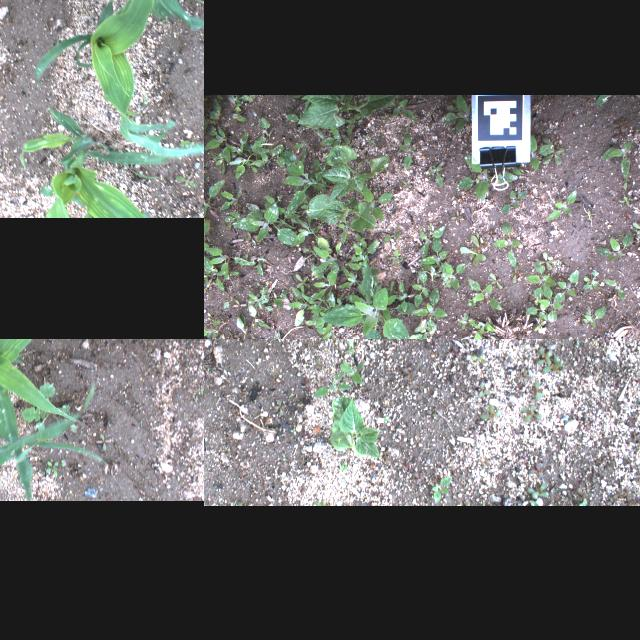crop: (33, 0, 204, 157), (19, 108, 171, 218), (0, 339, 82, 500), (0, 387, 102, 500), (321, 259, 415, 339), (322, 145, 388, 203), (286, 95, 398, 128), (328, 397, 384, 459), (306, 194, 374, 232), (298, 339, 403, 351)
weed: (278, 150, 342, 217), (227, 115, 283, 178), (230, 202, 300, 248), (454, 155, 518, 203), (290, 210, 332, 256), (410, 289, 448, 339), (208, 122, 242, 174), (20, 381, 56, 423), (308, 262, 340, 308), (420, 234, 450, 282), (208, 248, 256, 278), (346, 233, 379, 275), (287, 286, 321, 326), (491, 222, 521, 266), (594, 229, 632, 263), (438, 95, 470, 135), (525, 261, 555, 303), (362, 184, 394, 222), (466, 278, 502, 310), (601, 141, 631, 179), (311, 240, 341, 276), (546, 189, 576, 221), (538, 282, 562, 322), (552, 269, 578, 305), (527, 136, 553, 172), (313, 372, 352, 396), (382, 98, 418, 120), (460, 235, 486, 265), (339, 357, 365, 385), (204, 255, 223, 293), (258, 284, 288, 308), (500, 189, 528, 213), (411, 266, 427, 306), (431, 476, 452, 504), (398, 134, 414, 170), (581, 306, 605, 328), (248, 304, 270, 328), (218, 188, 240, 210), (603, 279, 623, 301), (178, 134, 202, 152), (92, 428, 112, 449), (526, 482, 548, 500), (542, 357, 562, 375), (521, 404, 541, 422), (582, 269, 598, 291), (235, 311, 247, 339), (534, 348, 552, 366), (398, 280, 408, 312), (480, 405, 500, 421), (452, 333, 505, 339), (175, 174, 197, 188), (428, 167, 442, 189), (295, 274, 309, 294), (115, 104, 136, 116), (44, 462, 58, 480), (244, 332, 273, 339), (275, 331, 299, 339), (477, 382, 489, 398), (220, 331, 242, 339), (518, 370, 530, 384), (534, 381, 542, 401), (470, 356, 486, 366), (631, 222, 640, 235), (160, 18, 170, 22)
